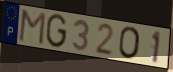1: (150, 30, 162, 66)
2: (94, 22, 116, 57)
3: (72, 18, 91, 52)
G: (44, 13, 69, 50)
M: (17, 9, 47, 47)
O: (118, 26, 142, 61)
